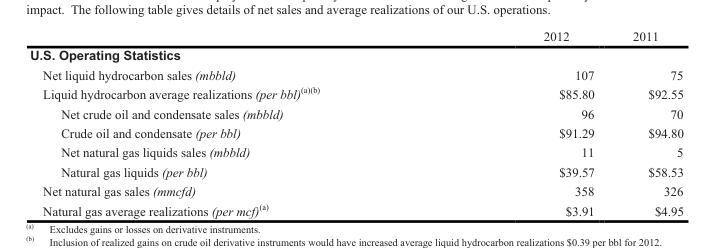table: (29, 28, 682, 217)
table column: (29, 28, 430, 217), (430, 28, 612, 217), (612, 28, 682, 217)
table column header: (29, 28, 682, 44)
table projected row header: (29, 44, 682, 64)
table row: (29, 44, 682, 64), (29, 83, 682, 103), (29, 122, 682, 142), (29, 161, 682, 181), (29, 64, 682, 83), (29, 103, 682, 122), (29, 142, 682, 161), (29, 181, 682, 199), (29, 199, 682, 217), (29, 28, 682, 44)
